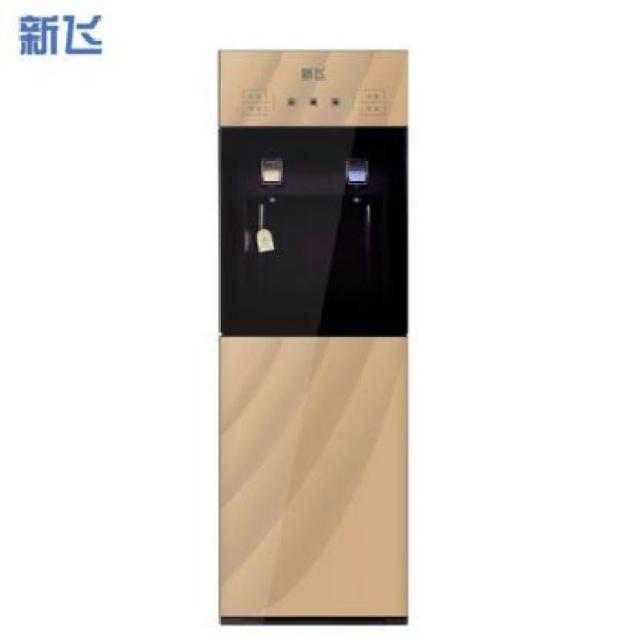cooler: (211, 42, 412, 632)
